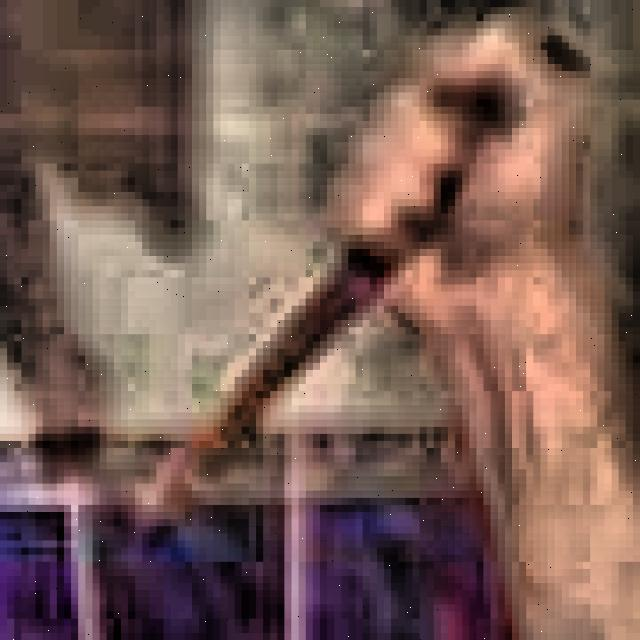knife: (144, 38, 589, 549)
